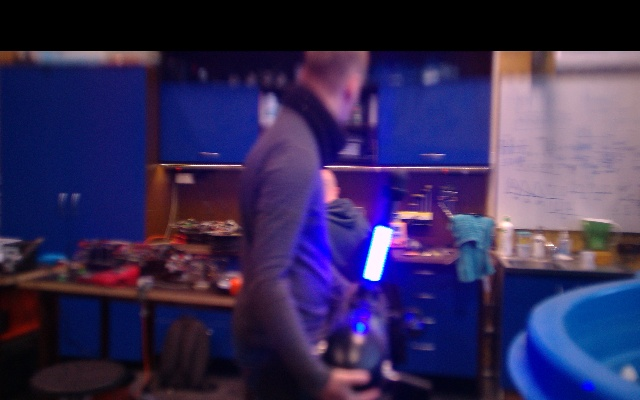blue: (362, 225, 394, 282)
